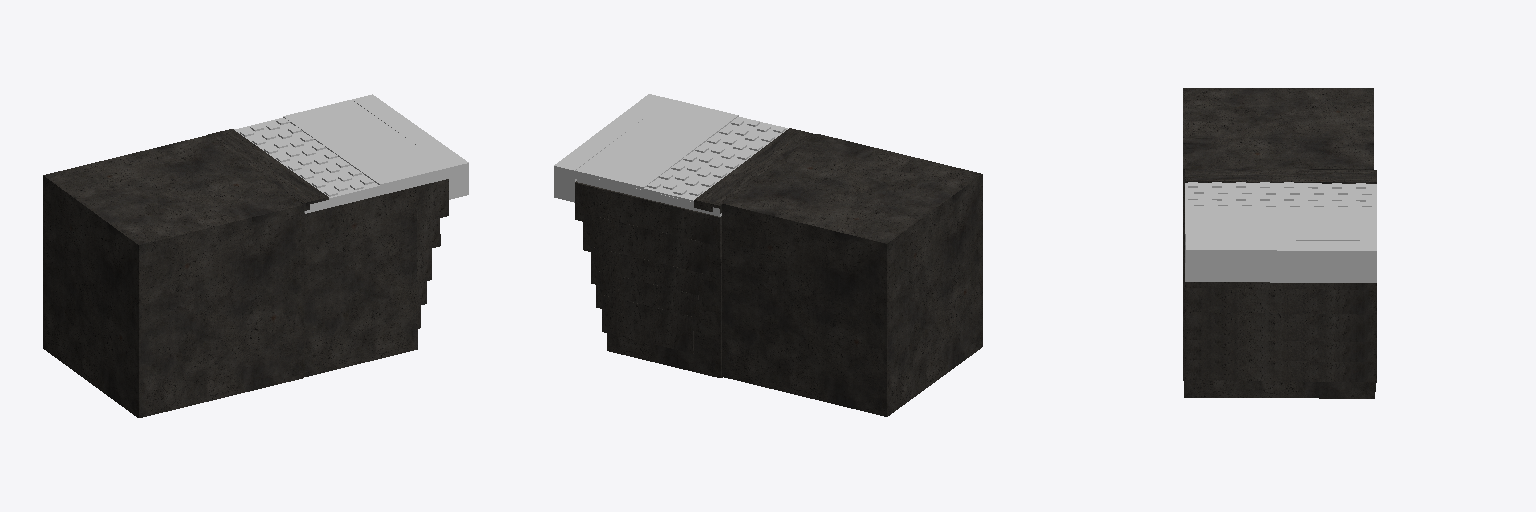
3 views of the same model, side by side, from view 1: azimuth 30°, elevation 25°; view 2: azimuth 150°, elevation 25°; view 3: azimuth 270°, elevation 25° (orthographic).
Parts seen in each view (by area): view 1: cube.052, cube.002, cube.039, cube.001, cube.005, cube, cube.040, cube.038; view 2: cube.052, cube.002, cube.039, cube.005, cube.001, cube.004, cube.003, cube, cube.040, cube.038; view 3: cube.052, cube.002, cube, cube.005, cube.039, cube.003, cube.004, cube.040, cube.001.
Boxes of the visible parts, box(x1,y1,x2,y2) form: cube.052: box(43, 135, 303, 417); cube.002: box(304, 208, 440, 376); cube.039: box(283, 100, 448, 192); cube.001: box(304, 179, 448, 235); cube.005: box(234, 118, 426, 305); cube: box(352, 94, 468, 199); cube.040: box(208, 129, 328, 210); cube.038: box(304, 176, 448, 213); cube.052: box(722, 134, 982, 416); cube.002: box(583, 213, 722, 377); cube.039: box(575, 99, 738, 189); cube.005: box(596, 117, 787, 331); cube.001: box(575, 181, 721, 254); cube.004: box(602, 295, 693, 353); cube.003: box(591, 247, 703, 310); cube: box(554, 94, 668, 202); cube.040: box(694, 128, 815, 213); cube.038: box(577, 174, 721, 216); cube.052: box(1183, 88, 1373, 310); cube.002: box(1183, 214, 1376, 398); cube: box(1185, 240, 1376, 282); cube.005: box(1185, 183, 1376, 361); cube.039: box(1185, 206, 1376, 244); cube.003: box(1185, 312, 1376, 341); cube.004: box(1185, 360, 1376, 382); cube.040: box(1185, 169, 1376, 183); cube.001: box(1185, 282, 1376, 289).
Size of the model in its own units: 1.91 by 0.9614 by 0.9678.
Materials: 5 (1 with a texture image).